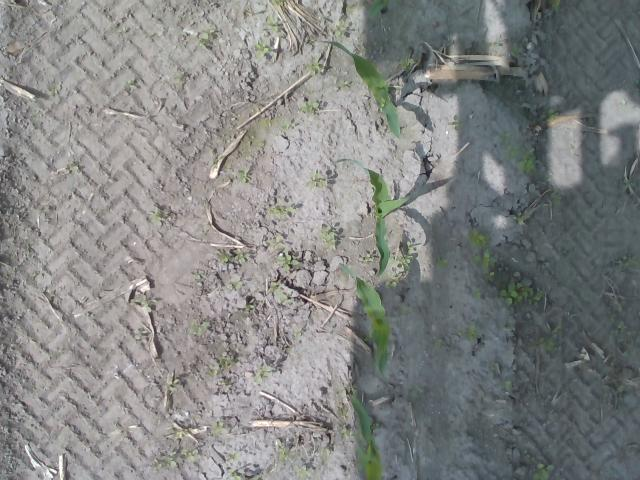Maize: (332, 158, 411, 280), (309, 38, 402, 140), (338, 260, 392, 378), (347, 393, 384, 480), (367, 0, 390, 19)
Weeds: (499, 131, 536, 171), (471, 228, 496, 280), (529, 320, 569, 351), (278, 448, 314, 480), (501, 280, 545, 304), (616, 318, 640, 350), (155, 450, 194, 469), (226, 449, 243, 480), (215, 248, 250, 263), (458, 323, 479, 344), (532, 462, 554, 480), (401, 238, 413, 271), (278, 252, 298, 271), (321, 224, 336, 247), (272, 280, 286, 303), (253, 366, 273, 382), (192, 320, 210, 336), (300, 100, 320, 114), (150, 207, 164, 225), (264, 16, 278, 33), (270, 207, 296, 216), (255, 42, 269, 58), (624, 254, 640, 268), (384, 273, 398, 288), (436, 254, 449, 270), (212, 421, 228, 434), (219, 355, 237, 366), (331, 23, 345, 37), (310, 174, 323, 188), (342, 428, 356, 440), (449, 119, 464, 130), (400, 56, 416, 66), (198, 31, 208, 47), (308, 62, 322, 72), (552, 0, 564, 11), (112, 24, 126, 32), (514, 212, 524, 223), (510, 46, 520, 57), (165, 384, 178, 392), (548, 110, 560, 118), (280, 120, 289, 130), (474, 289, 482, 300), (435, 338, 443, 348), (506, 380, 514, 390), (193, 271, 204, 278), (365, 253, 373, 262), (174, 72, 183, 80), (239, 175, 247, 183), (128, 80, 134, 86)
